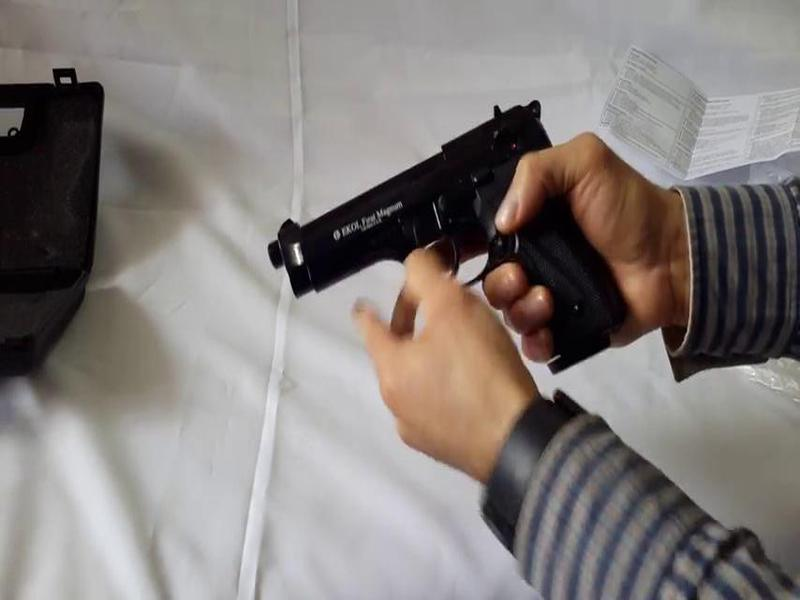Pistola: (258, 89, 631, 364)
